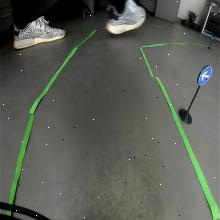left: (196, 65, 214, 87)
